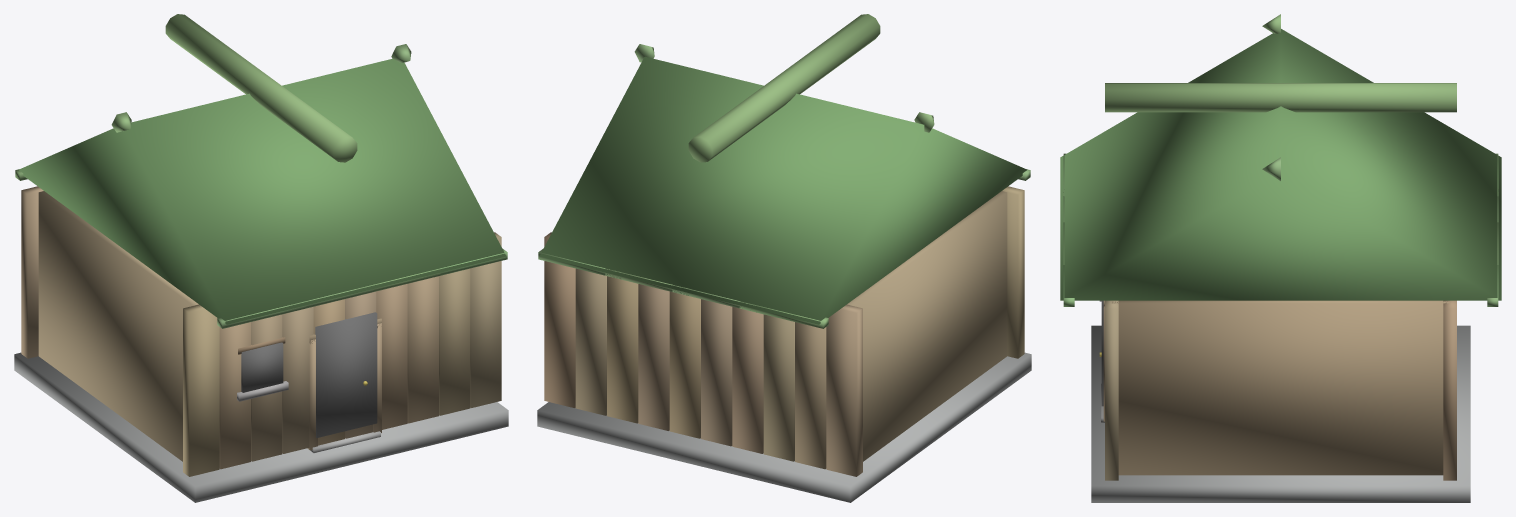
File: building_upgrade_l1.glb
The picture shows the model from 3 angles, left to right: view 1: azimuth 30°, elevation 25°; view 2: azimuth 150°, elevation 25°; view 3: azimuth 270°, elevation 25°; orthographic projection. The views are drawn at different scales.
Visible parts, largest first — view 1: thatched_body, side_-1, foundation, open0, thatch_ridge, front_plank0, front_plank9, front_plank7, front_plank8, front_plank1, front_plank3, front_plank6 (+7 smaller); view 2: thatched_body, side_-1, foundation, thatch_ridge, back_plank0, back_plank9, back_plank1, back_plank2, back_plank6, back_plank4, back_plank5, back_plank7 (+3 smaller); view 3: thatched_body, side_1, foundation, thatch_ridge, front_plank9, back_plank9.
Boxes of the visible parts, x1,y1,x2,y2 form: thatched_body: (18,58,506,324); side_-1: (38,191,200,461); foundation: (14,352,508,502); open0: (315,312,377,437); thatch_ridge: (165,14,357,162); front_plank0: (183,304,219,476); front_plank9: (470,232,501,407); front_plank7: (407,276,438,423); front_plank8: (439,268,470,415); front_plank1: (219,322,250,469); front_plank3: (282,307,313,453); front_plank6: (376,284,407,429); thatched_body: (539,56,1027,324); side_-1: (847,191,1007,461); foundation: (537,352,1031,502); thatch_ridge: (688,14,880,162); back_plank0: (826,304,862,476); back_plank9: (544,232,575,407); back_plank1: (795,322,826,469); back_plank2: (763,314,794,461); back_plank6: (638,284,669,430); back_plank4: (701,299,732,446); back_plank5: (669,291,700,438); back_plank7: (607,276,638,423); thatched_body: (1060,29,1501,300); side_1: (1112,300,1450,475); foundation: (1091,325,1470,502); thatch_ridge: (1105,83,1456,112); front_plank9: (1105,300,1118,480); back_plank9: (1443,300,1456,480).
Size of the model in its own units: 2.8 by 2.76 by 3.26.
